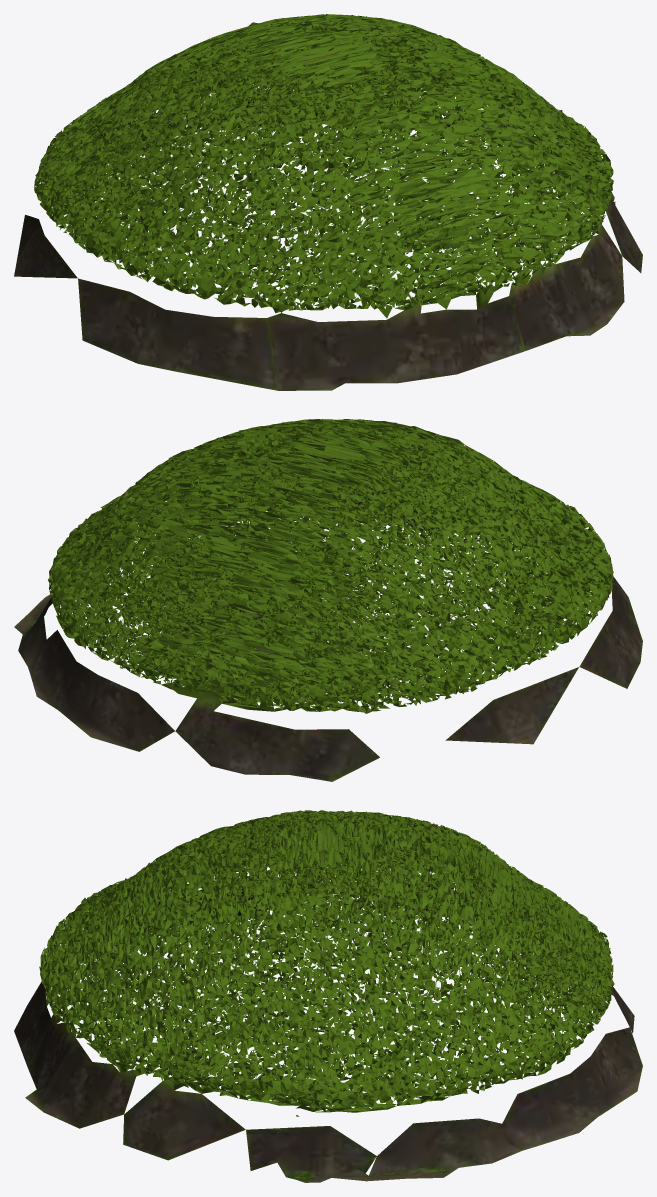
The model's file is lush_grassy_mound.raw.glb.
The picture shows the model from 3 angles, top to bottom: view 1: azimuth 30°, elevation 25°; view 2: azimuth 150°, elevation 25°; view 3: azimuth 270°, elevation 25°; orthographic projection. The views are drawn at different scales.
Visible parts, largest first — view 1: world; view 2: world; view 3: world.
Boxes of the visible parts, box(x1,y1,x2,y2) form: world: box(14, 14, 642, 390); world: box(14, 419, 642, 781); world: box(14, 810, 642, 1182).
Bounding box in the file's own units: 0.9491 × 0.3358 × 0.935.
Materials: 1 (1 with a texture image).
